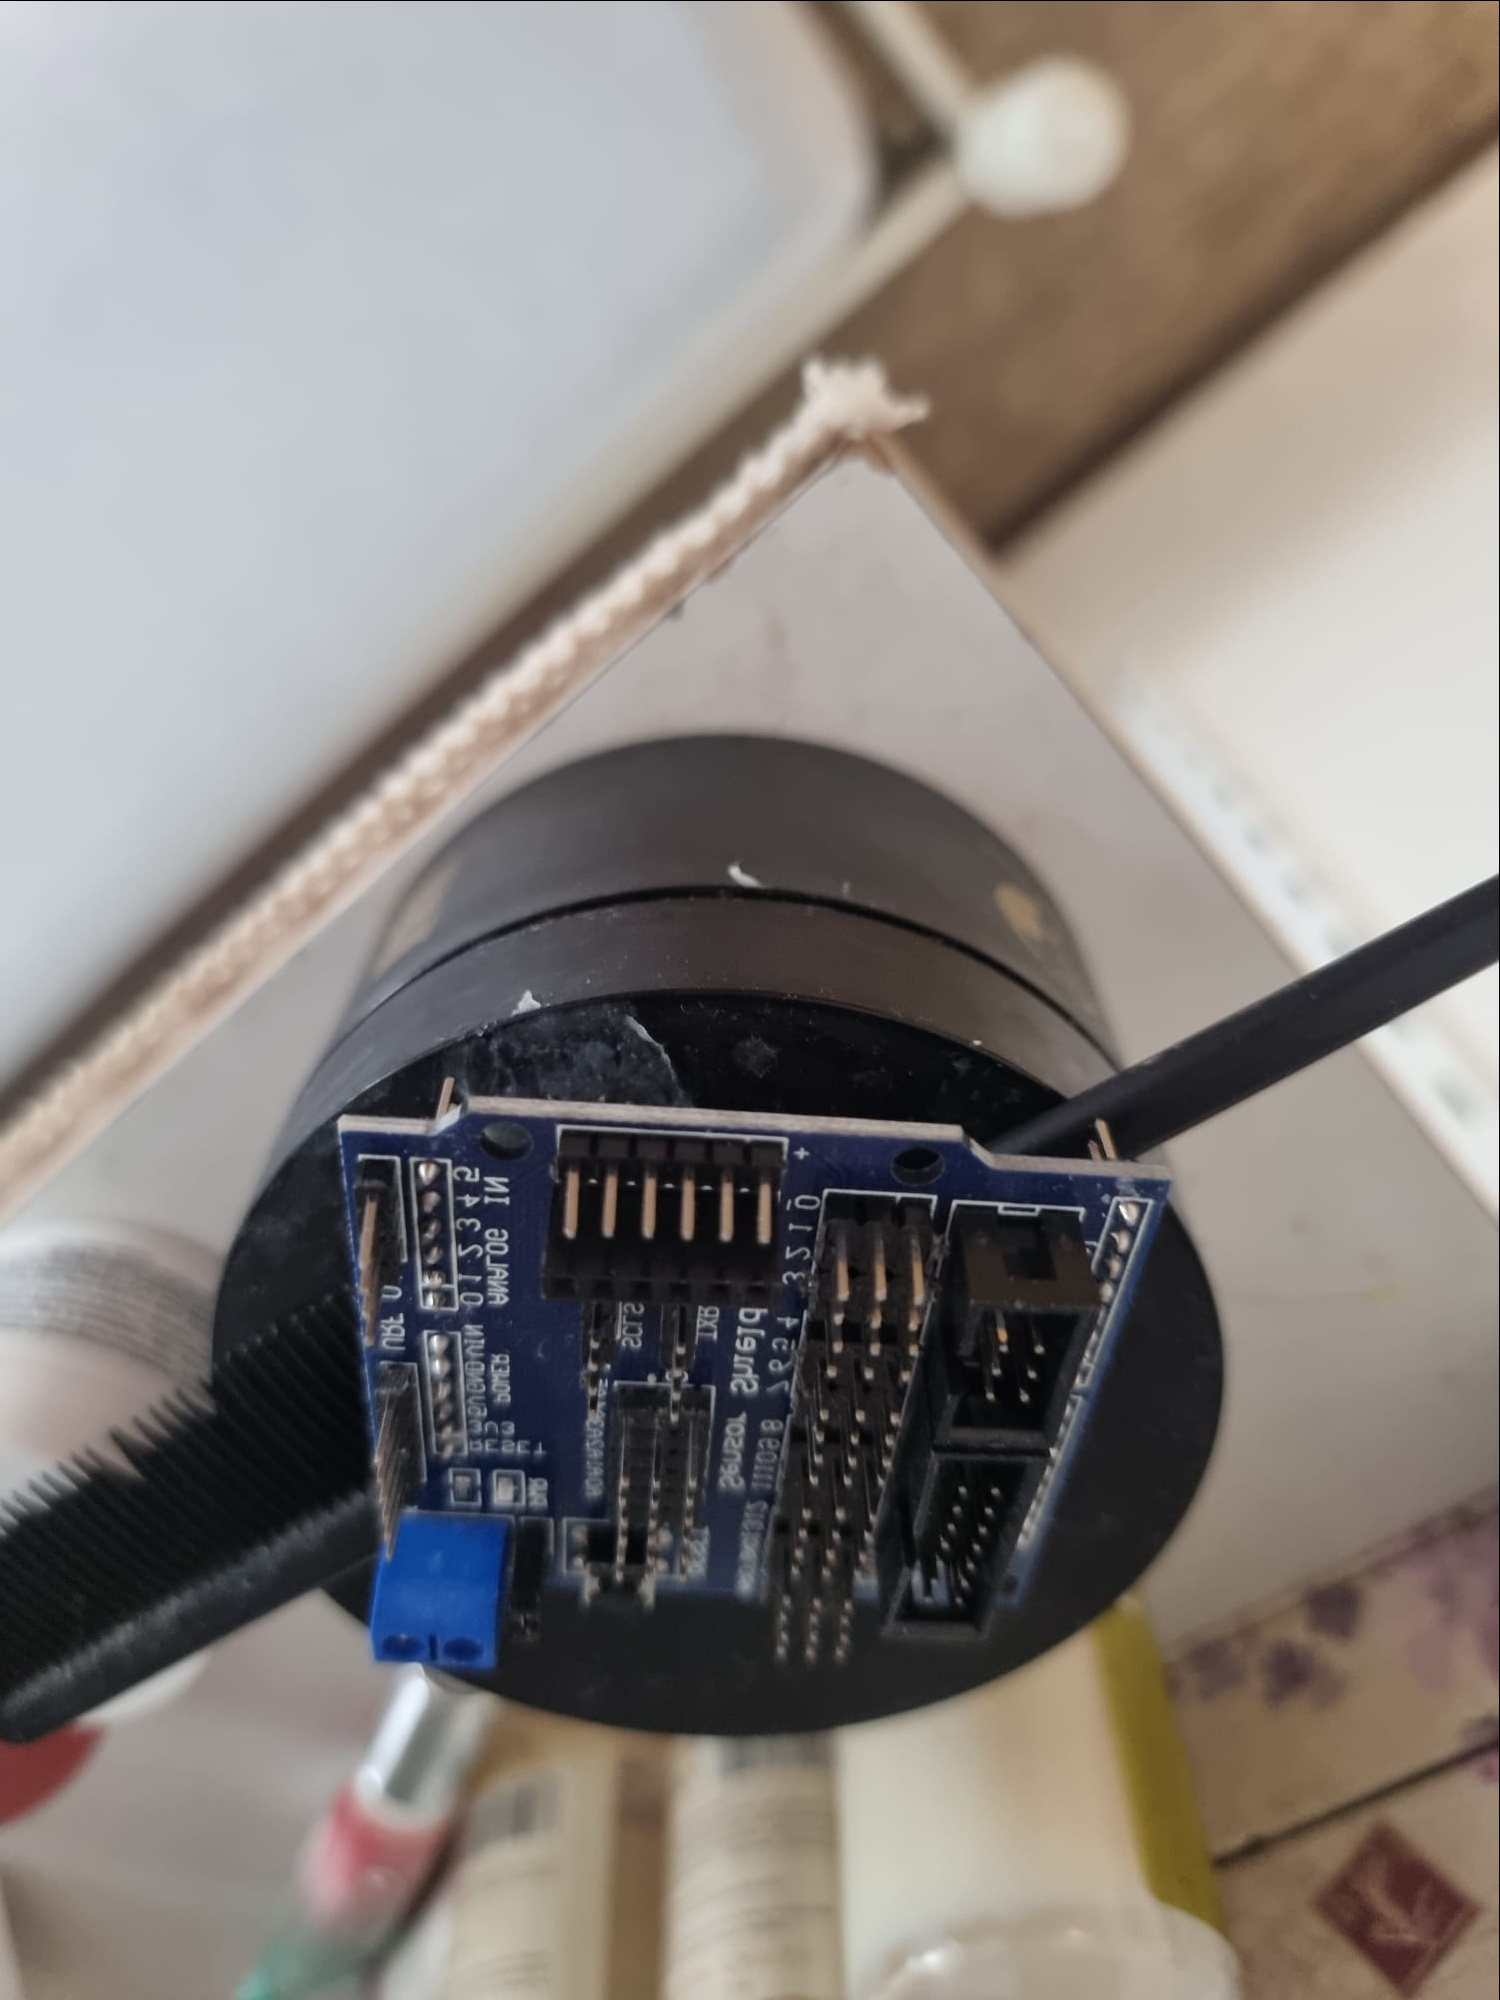5V EXPANSION: (350, 1143, 1164, 1676)
